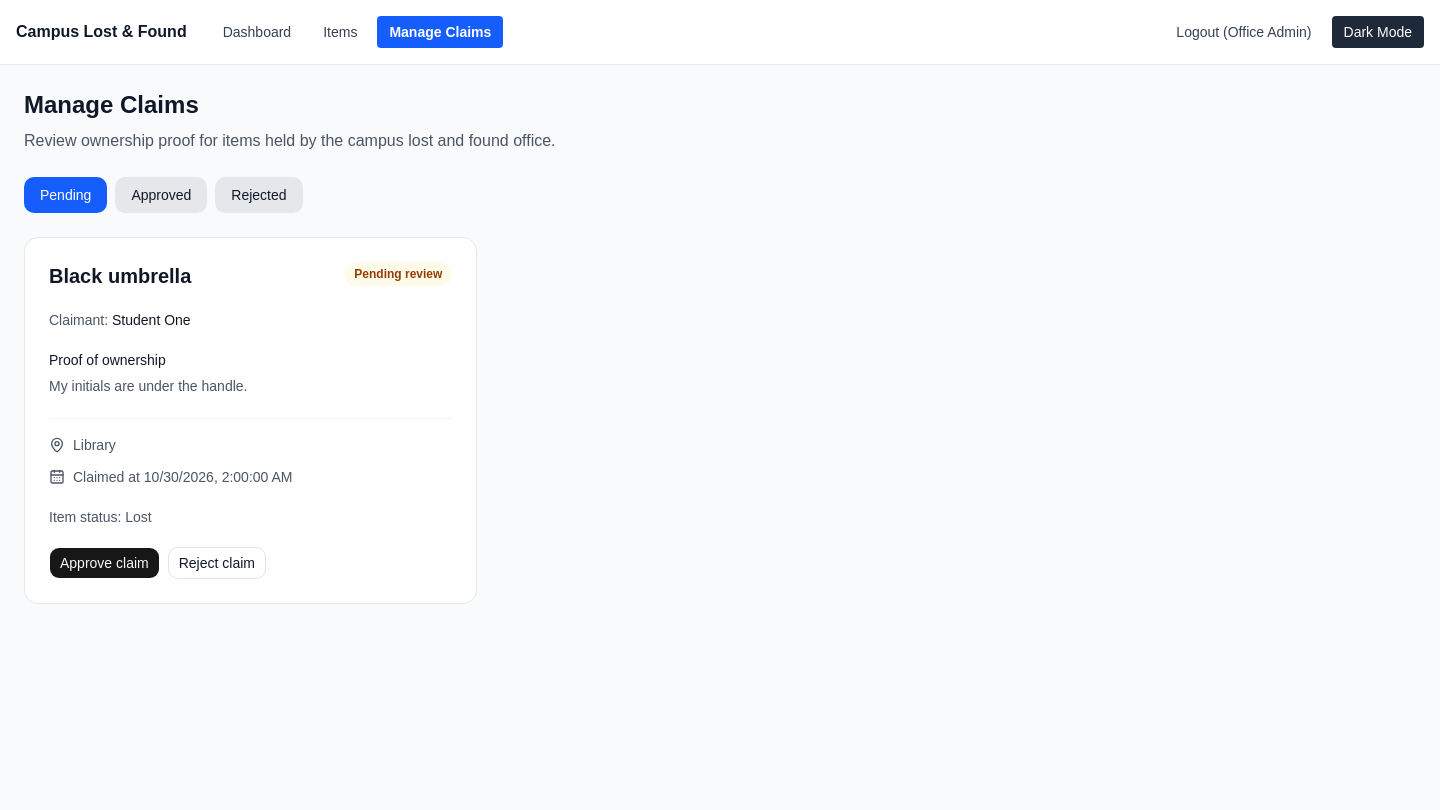
admin pages › confirms approval before sending a decision and refreshes the list
This screenshot has width=1440, height=810.
Expected: the link "Manage Claims" is shown, [377,16,503,48]
Expected: the text "Student One" is shown, [112,312,191,328]
Click the button "Approve claim": (104, 563) [49,547,160,579]
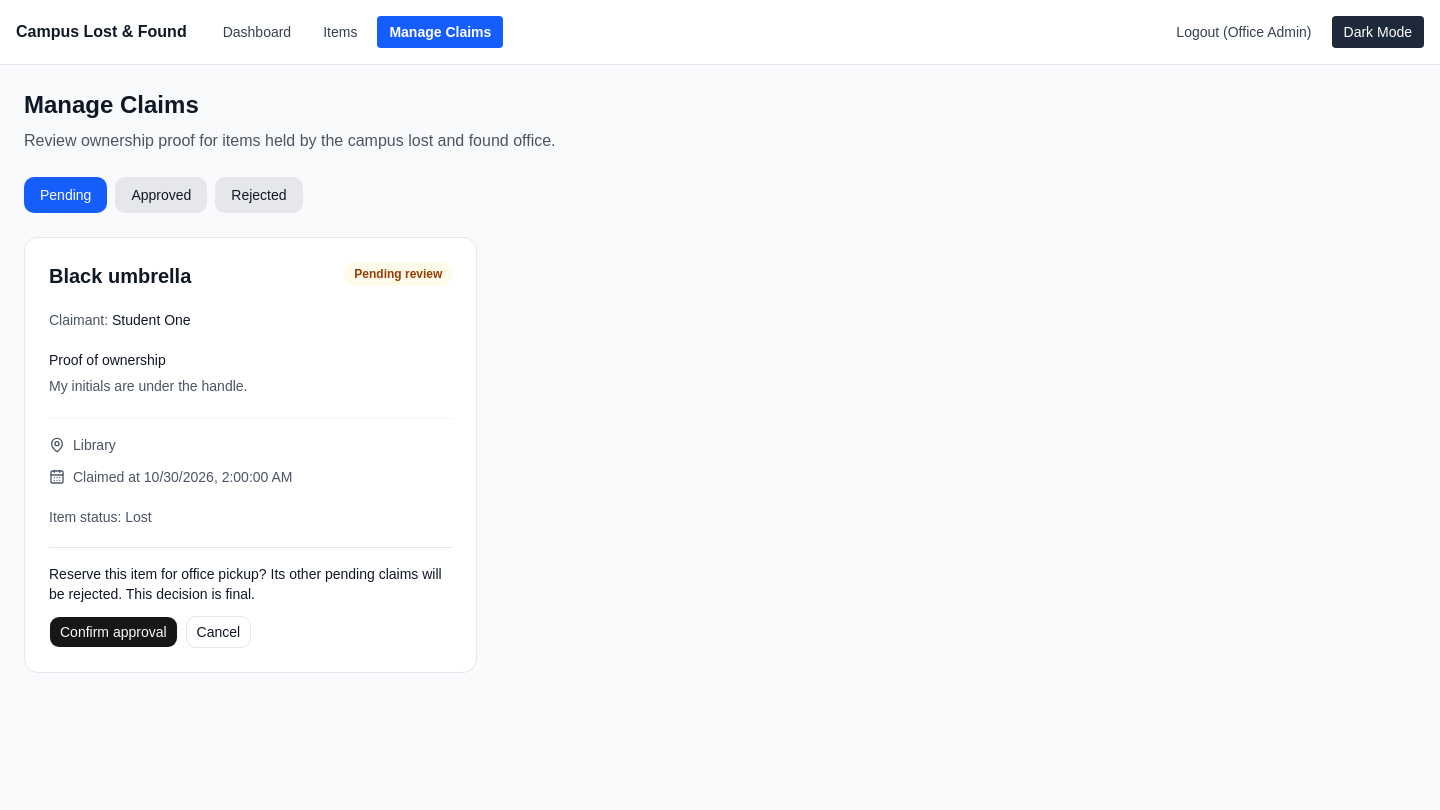
Expected: the text "other pending claims will be rejected" is shown, [49,566,442,602]
Click the button "Confirm approval": (113, 632) [49,616,178,648]
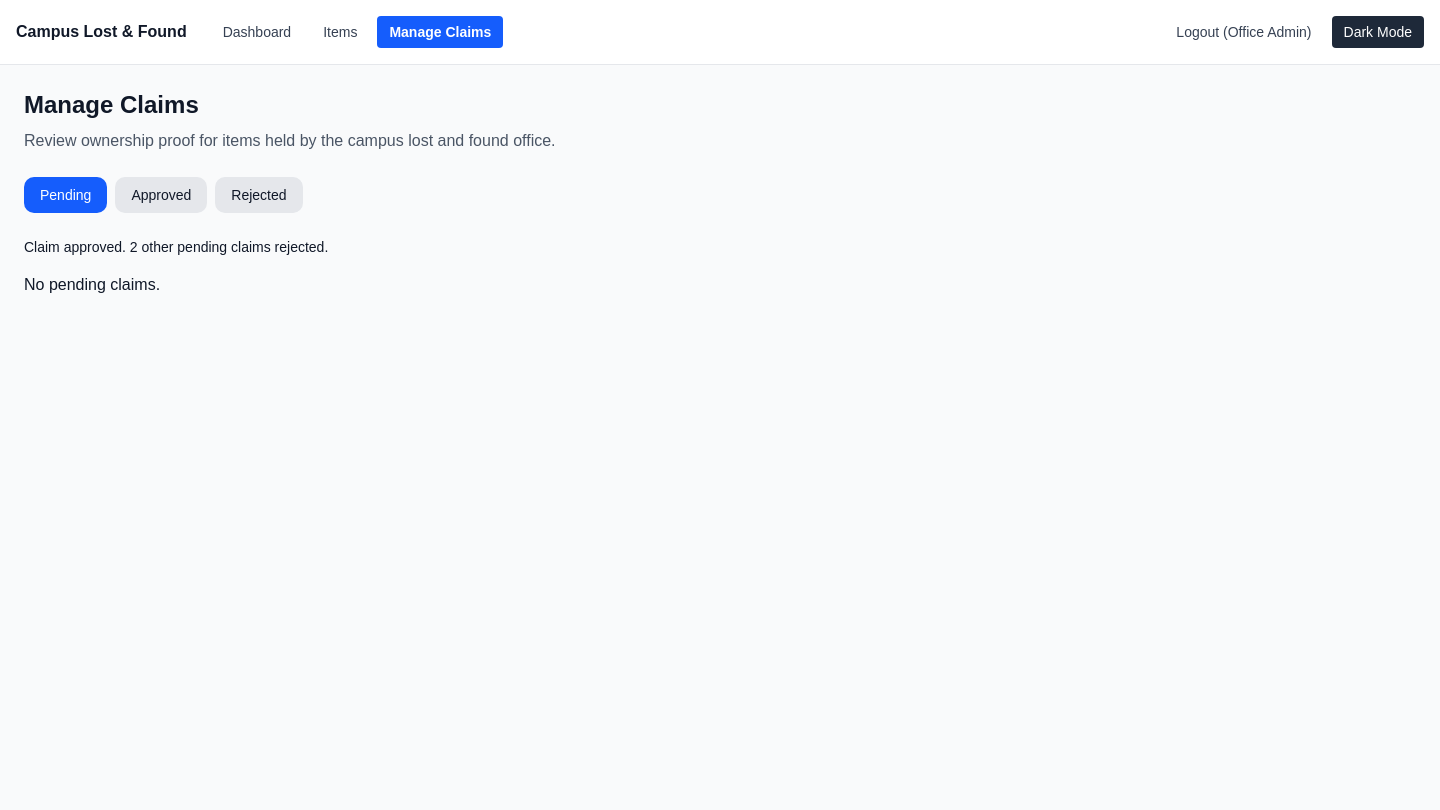
Expected: the text "Claim approved. 2 other pending claims rejected." is shown, [24,239,328,255]
